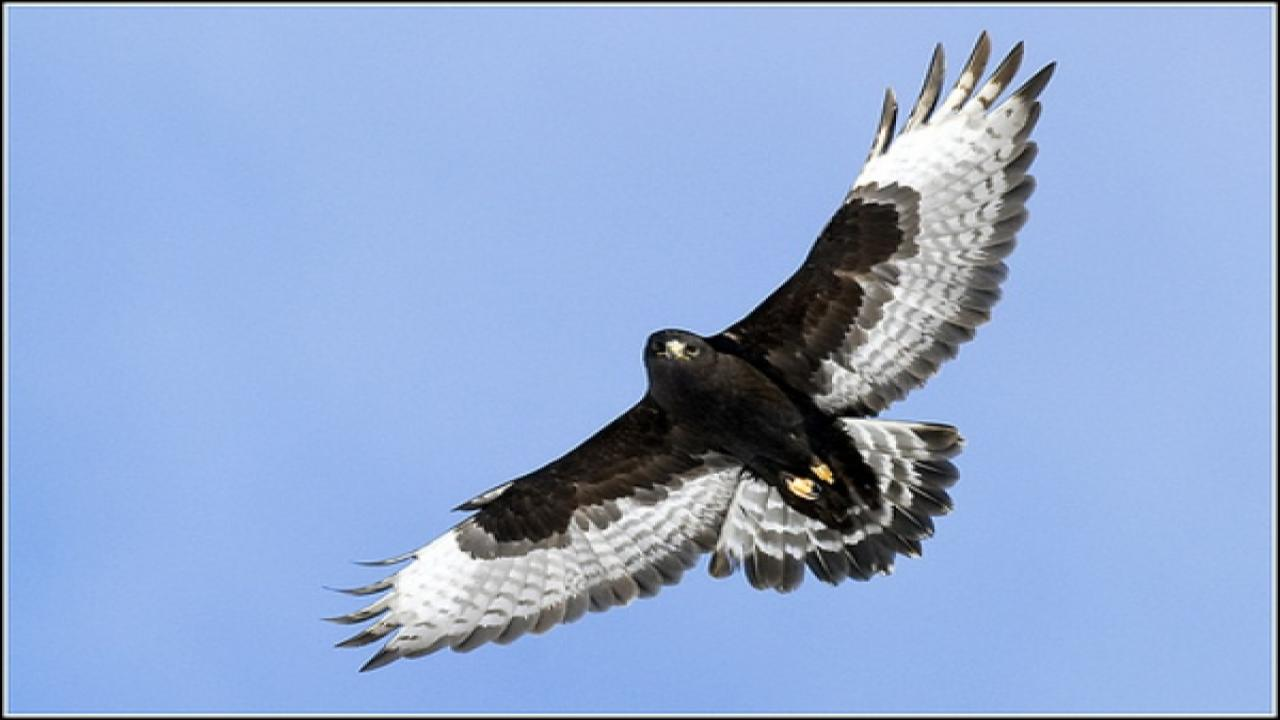Bird: (309, 22, 1071, 679)
